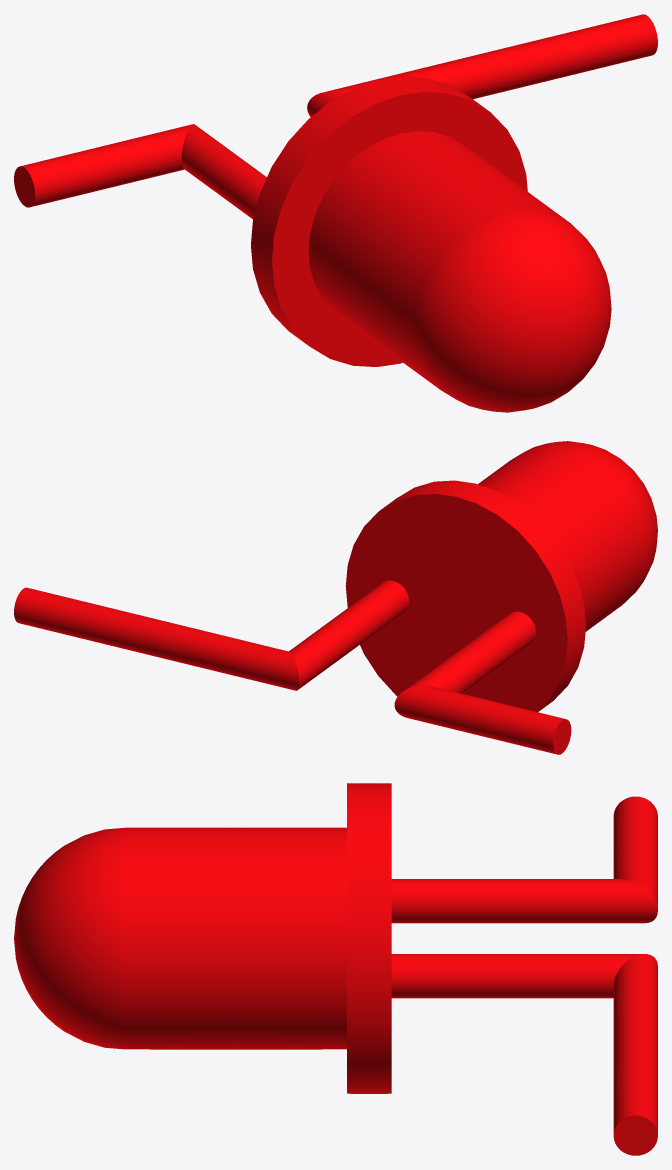
File: Diode.fbx
3 renders of one model, top to bottom at view 1: azimuth 30°, elevation 25°; view 2: azimuth 150°, elevation 25°; view 3: azimuth 270°, elevation 25°, orthographic. The views are drawn at different scales.
Visible parts, largest first — view 1: Body1; view 2: Body1; view 3: Body1.
Boxes of the visible parts, left/top/right/bottom form: Body1: left=14, top=14, right=657, bottom=412; Body1: left=14, top=441, right=657, bottom=754; Body1: left=14, top=783, right=657, bottom=1155.
Size of the model in its own units: 17 by 7 by 14.5.
